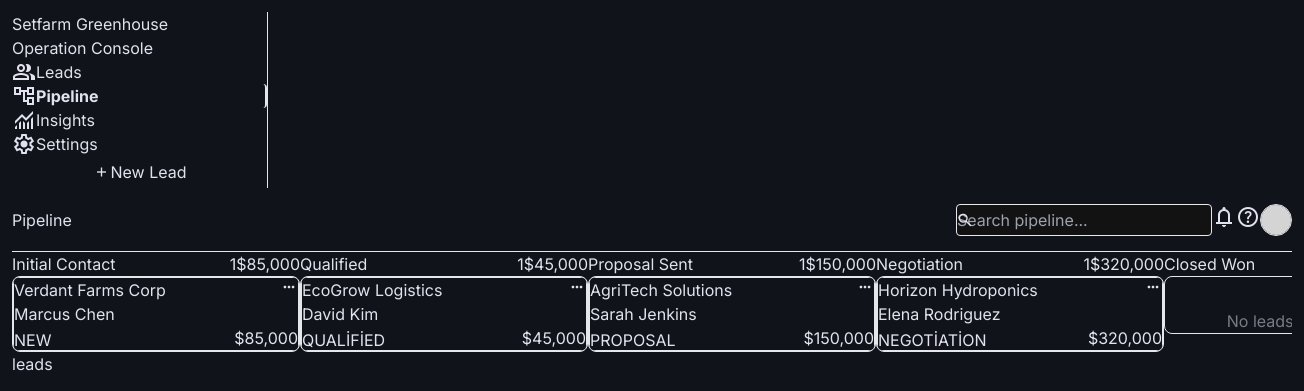
Test: PipelinePipeline › navigates to lead form on card click
The width and height of the screenshot is (1304, 391).
Expected: the heading "AgriTech Solutions" is shown, [590,278,732,302]
Click the text "AgriTech Solutions".
click(732, 290)  # box [590,278,874,302]
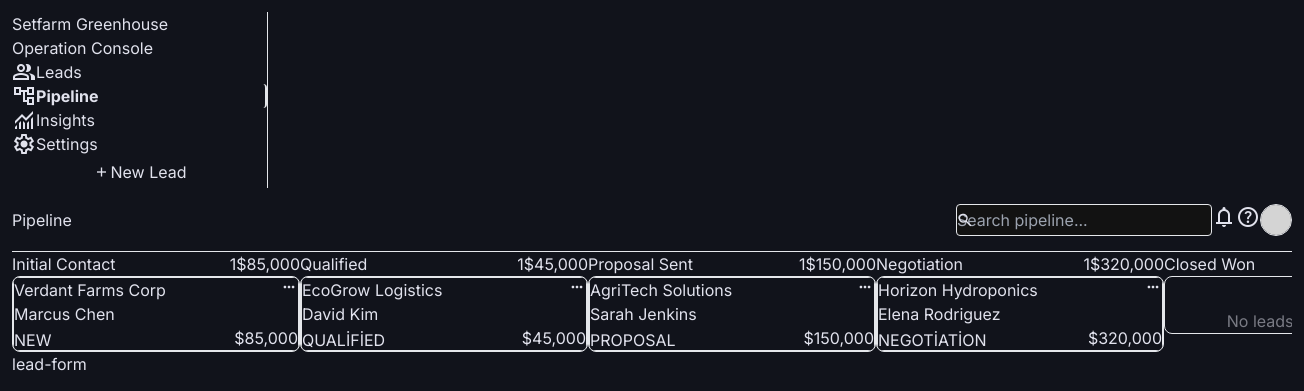
Now the text with test id "current-screen" reads "lead-form", box [12,354,87,374]
